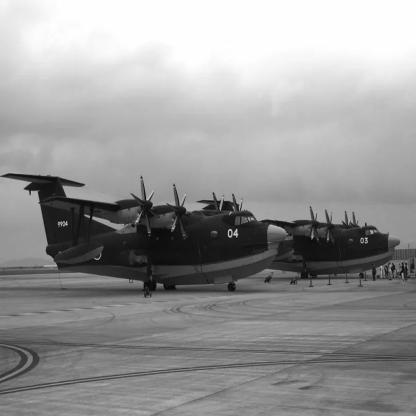US2: (2, 174, 288, 293), (196, 200, 402, 280)
